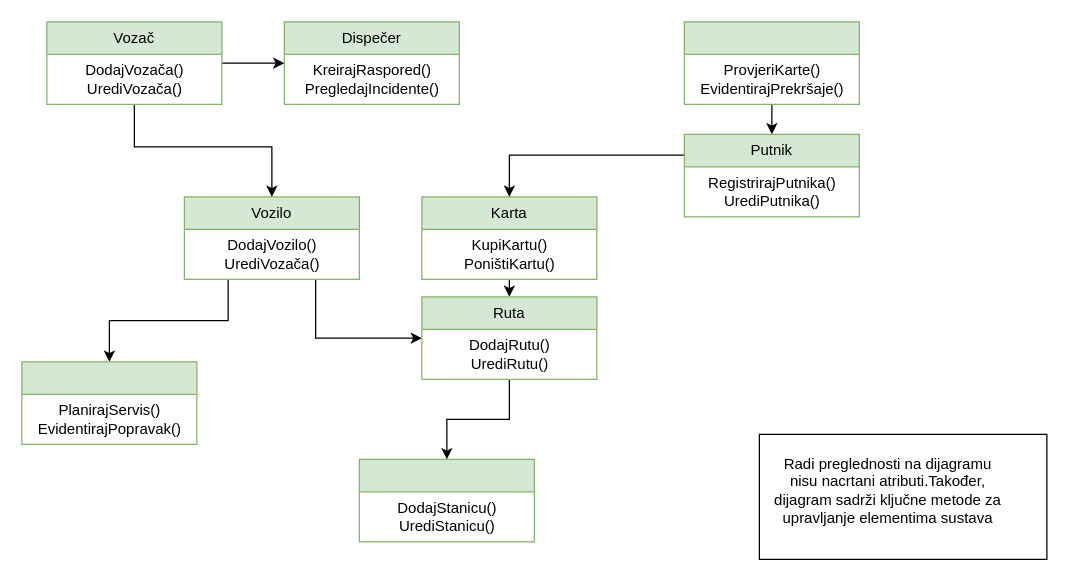
Image size: 1069x581. Some labels were removed from this diagram. Here are the shapes that lost their labels. From the top down, the box of each, then its label:
(683, 21, 859, 104): Kontroler
(21, 361, 197, 444): Održavanje
(358, 458, 534, 542): Stanica
